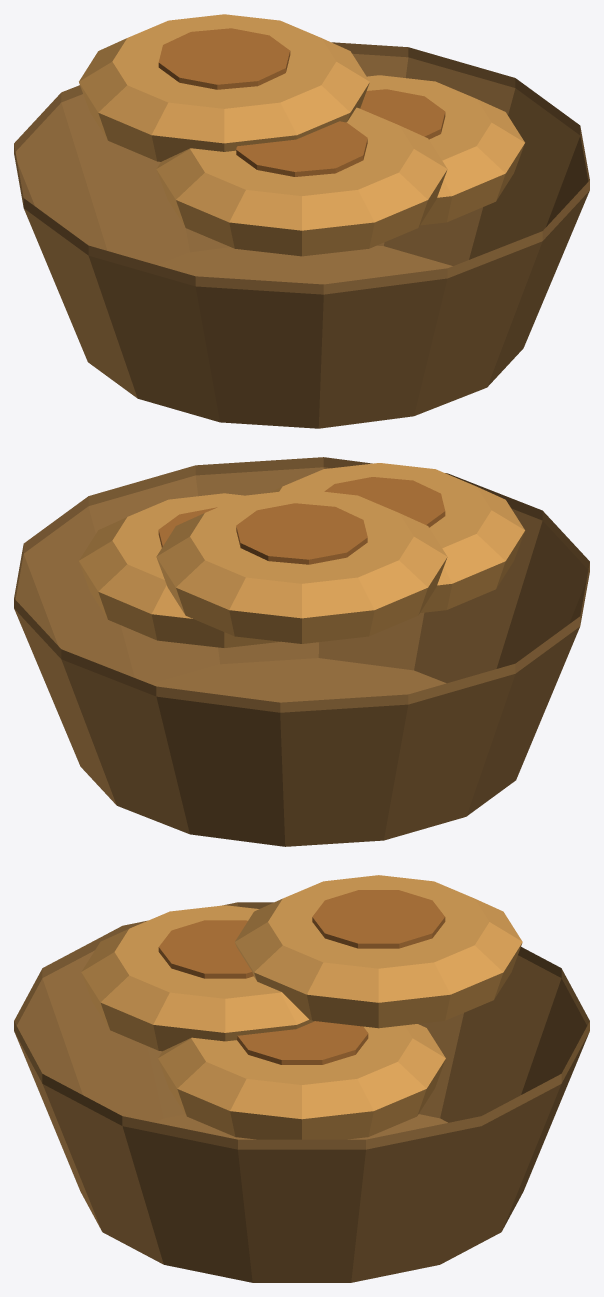
File: Daily_NanBasket.obj
3 views of the same model, one above another, from view 1: azimuth 30°, elevation 25°; view 2: azimuth 150°, elevation 25°; view 3: azimuth 270°, elevation 25° (orthographic).
Parts seen in each view (by area): view 1: Daily_NanBasket; view 2: Daily_NanBasket; view 3: Daily_NanBasket.
Part boxes in pixels (<box>): Daily_NanBasket: <box>14,14,589,428</box>; Daily_NanBasket: <box>14,457,589,846</box>; Daily_NanBasket: <box>14,875,589,1282</box>.
Size of the model in its own units: 0.507 by 0.255 by 0.52.
